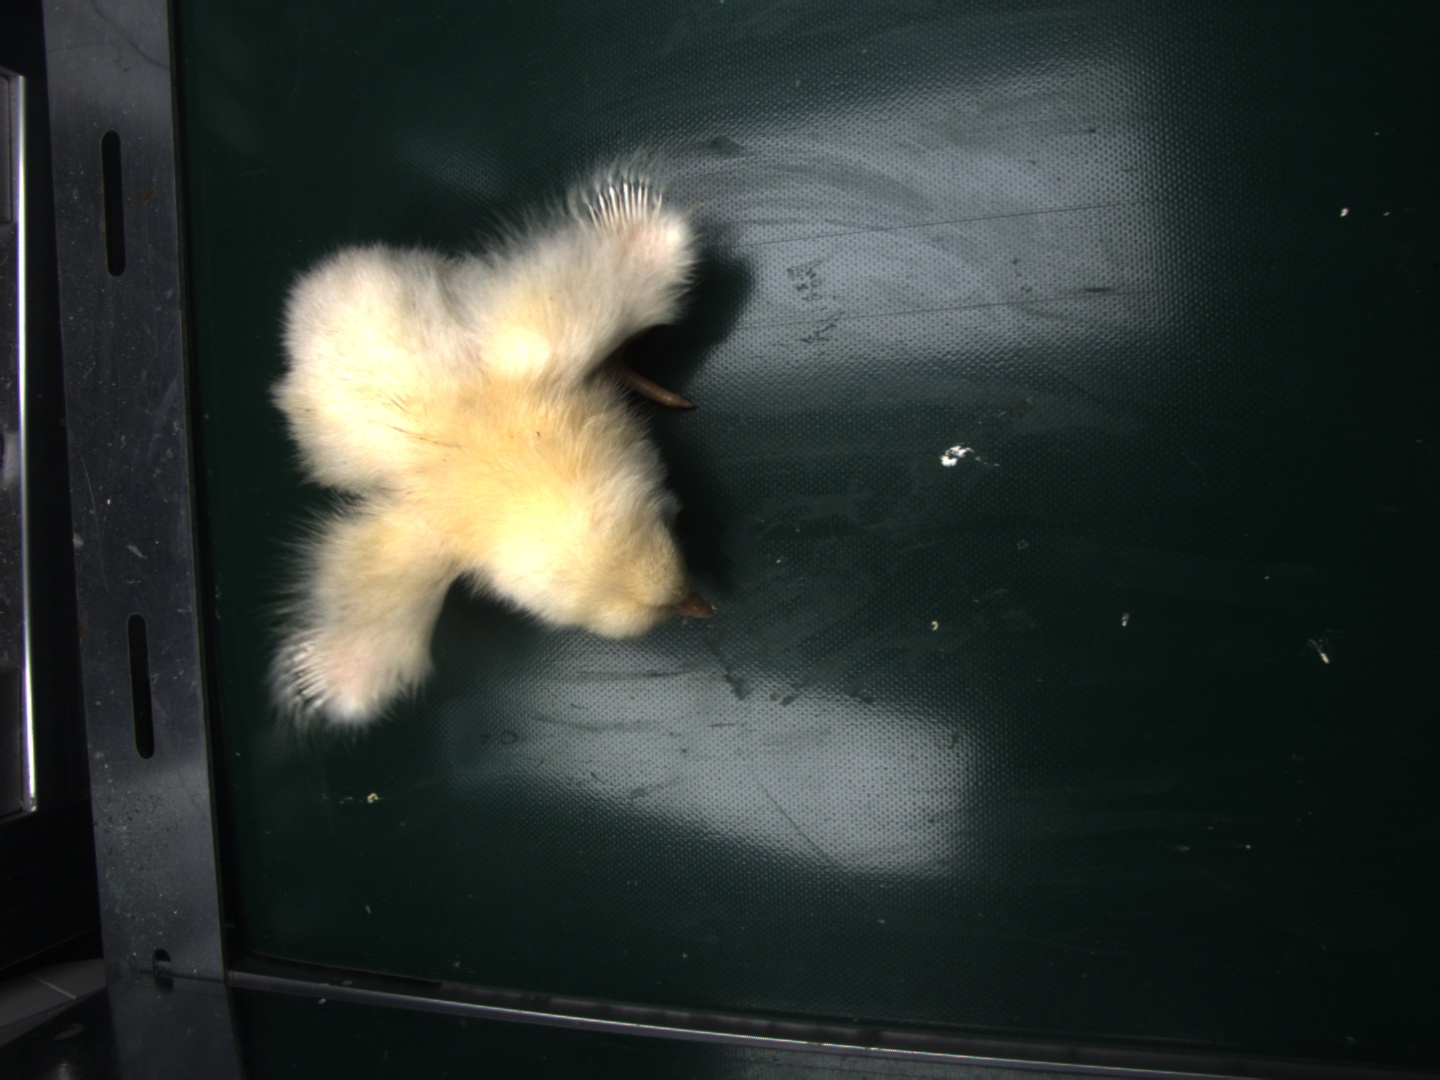male: (581, 172, 660, 231)
